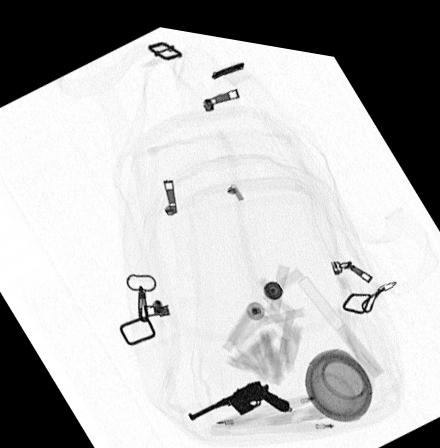Gun: (186, 369, 290, 415)
